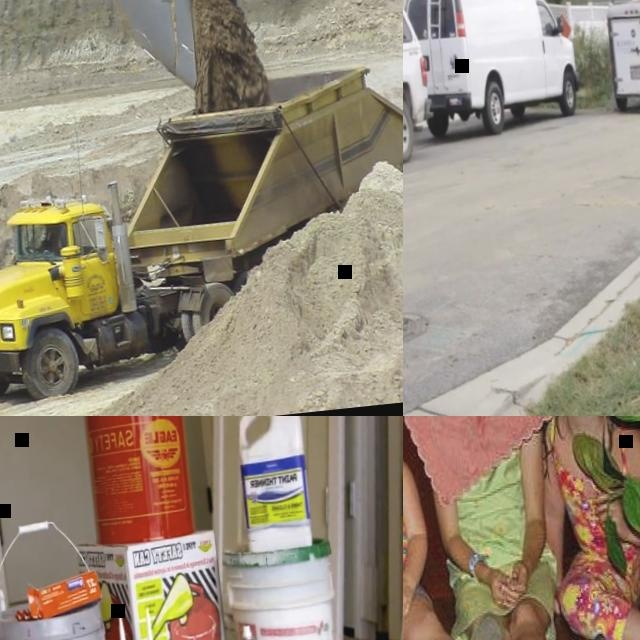NO-Safety Vest: (551, 430, 640, 572), (449, 440, 540, 575)
Person: (432, 416, 619, 640), (528, 416, 640, 640), (403, 416, 510, 640), (34, 223, 65, 253)
Safety Vest: (46, 229, 64, 251)
machinery: (0, 54, 403, 413), (85, 0, 403, 101)
vehicle: (403, 0, 585, 145), (403, 0, 436, 177)
